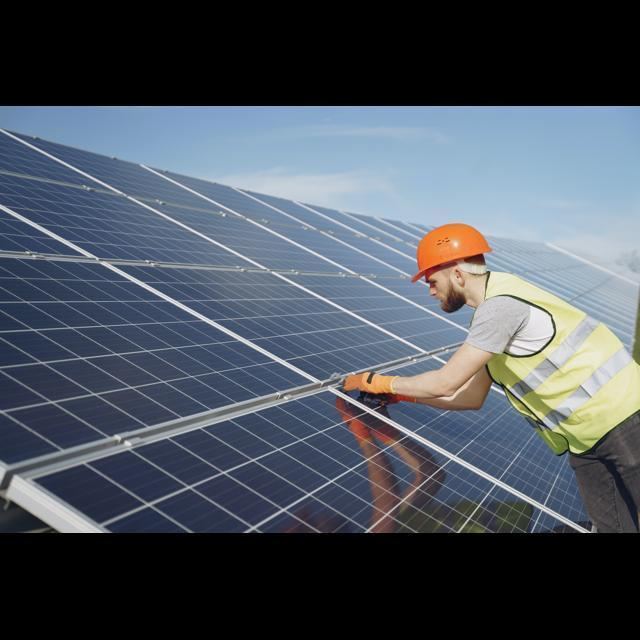helmet: (408, 213, 498, 291)
safety_vest: (463, 252, 640, 464)
